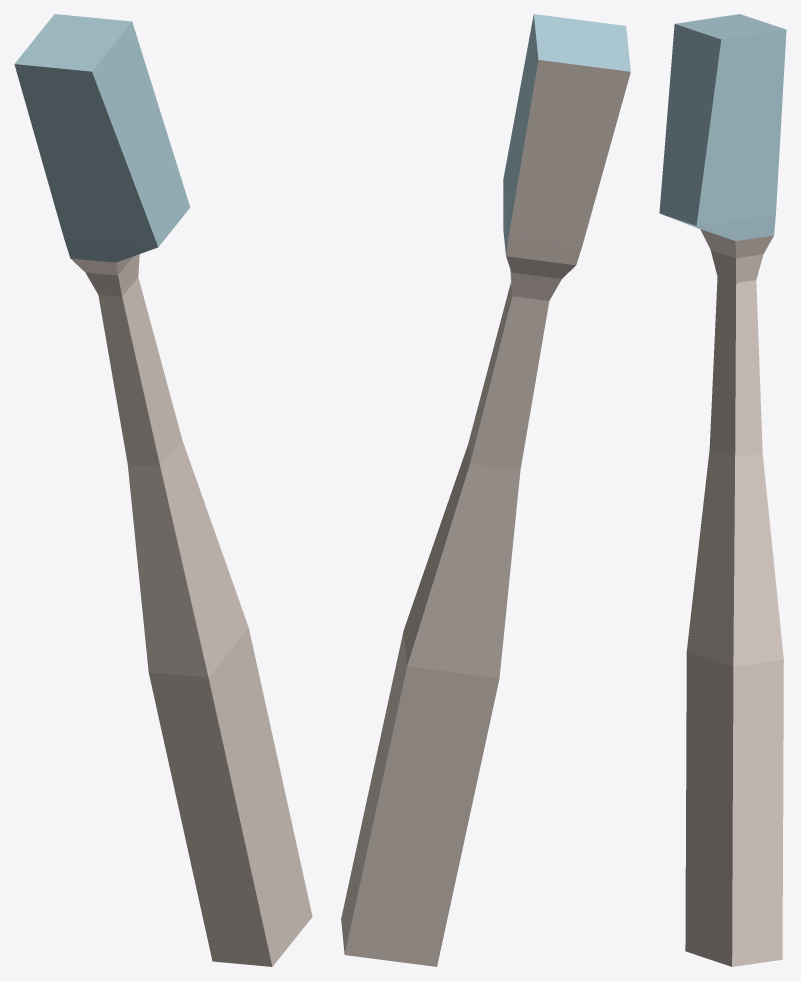
File: Bathroom_Toothbrush_2.fbx
3 renders of one model, left to right at view 1: azimuth 30°, elevation 25°; view 2: azimuth 150°, elevation 25°; view 3: azimuth 270°, elevation 25°, orthographic. The views are drawn at different scales.
Parts seen in each view (by area): view 1: Bathroom_Toothbrush_2; view 2: Bathroom_Toothbrush_2; view 3: Bathroom_Toothbrush_2.
Boxes of the visible parts, x1,y1,x2,y2 form: Bathroom_Toothbrush_2: (14, 14, 312, 966); Bathroom_Toothbrush_2: (341, 14, 630, 966); Bathroom_Toothbrush_2: (659, 14, 786, 966).
Size of the model in its own units: 11.59 by 36.48 by 4.85.
